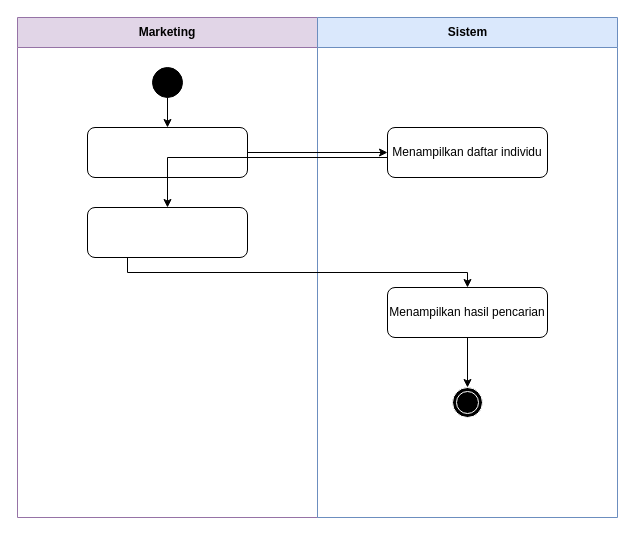
Some shapes in this 635 by 535 pixel diagram are drawn without their labels. The shapes that lost their labels are listed below. From the top down, each one's box as (x1, y1, x2, y2) in pixels, then its label:
(86, 126, 248, 178): Membuka menu Kontak (Orang)
(86, 206, 248, 258): Mencari nama kontak
